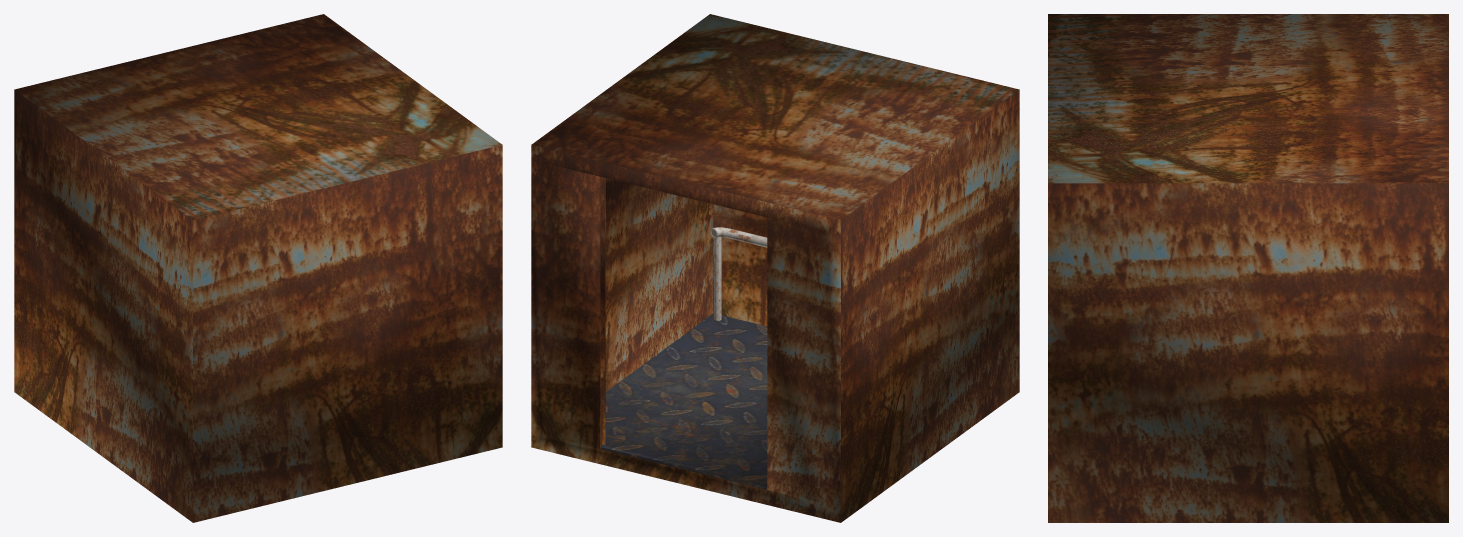
Rendered from elevator.glb.
3 views of the same model, side by side, from view 1: azimuth 30°, elevation 25°; view 2: azimuth 150°, elevation 25°; view 3: azimuth 270°, elevation 25° (orthographic). The views are drawn at different scales.
Parts seen in each view (by area): view 1: Elevator-col; view 2: Elevator-col, ElevatorRailing-col; view 3: Elevator-col.
Part boxes in pixels (left/top/right/bottom): Elevator-col: left=14, top=14, right=502, bottom=522; Elevator-col: left=531, top=14, right=1019, bottom=522; ElevatorRailing-col: left=711, top=227, right=767, bottom=320; Elevator-col: left=1048, top=14, right=1448, bottom=522.
Bounding box in the file's own units: 3.2 × 2.99 × 3.2.
3 materials, 3 textured.
